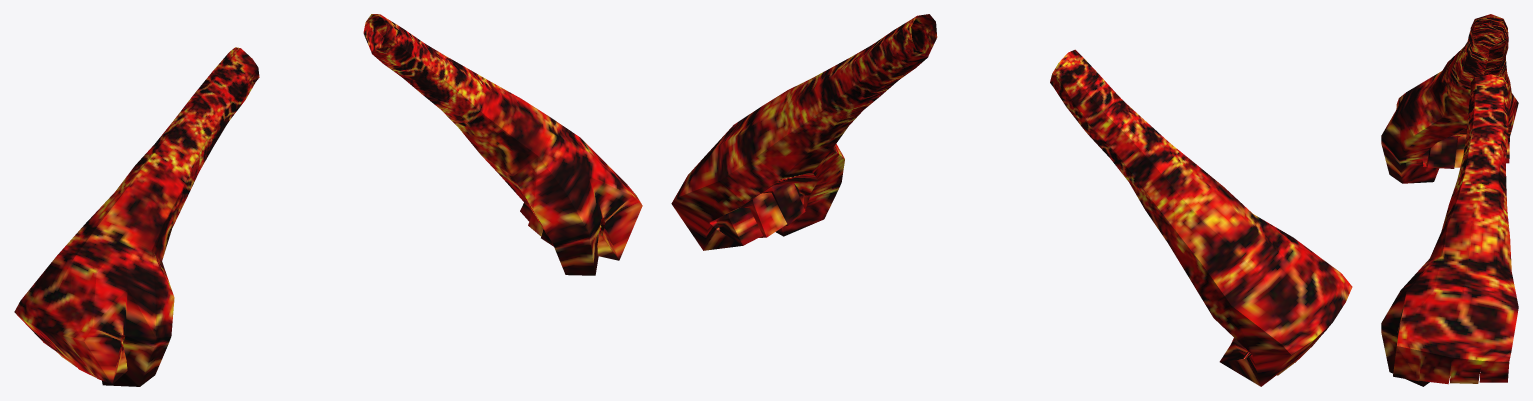
The model's file is AkainuBW7_g2-5.fbx.
3 renders of one model, left to right at view 1: azimuth 30°, elevation 25°; view 2: azimuth 150°, elevation 25°; view 3: azimuth 270°, elevation 25°, orthographic. The views are drawn at different scales.
Visible parts, largest first — view 1: AkainuBW7_g2_L0_cut, AkainuBW7_g5_L0_cut; view 2: AkainuBW7_g2_L0_cut, AkainuBW7_g5_L0_cut; view 3: AkainuBW7_g5_L0_cut, AkainuBW7_g2_L0_cut.
Boxes of the visible parts, <box> form: AkainuBW7_g2_L0_cut: <box>14,47,259,386</box>; AkainuBW7_g5_L0_cut: <box>363,14,642,275</box>; AkainuBW7_g2_L0_cut: <box>1050,49,1352,386</box>; AkainuBW7_g5_L0_cut: <box>671,14,937,250</box>; AkainuBW7_g5_L0_cut: <box>1381,74,1518,386</box>; AkainuBW7_g2_L0_cut: <box>1381,14,1518,183</box>.
Bounding box in the file's own units: 3.61 × 1.57 × 0.8294.
